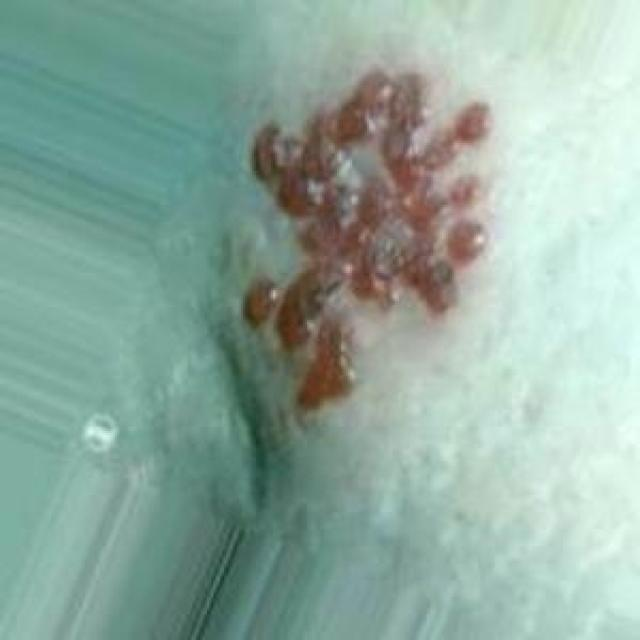Shingles: (241, 64, 493, 414)
